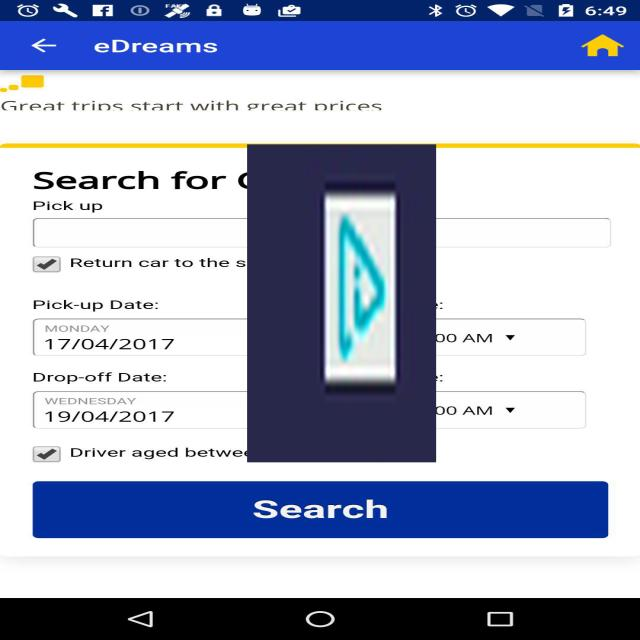sneaking: (247, 144, 436, 462)
